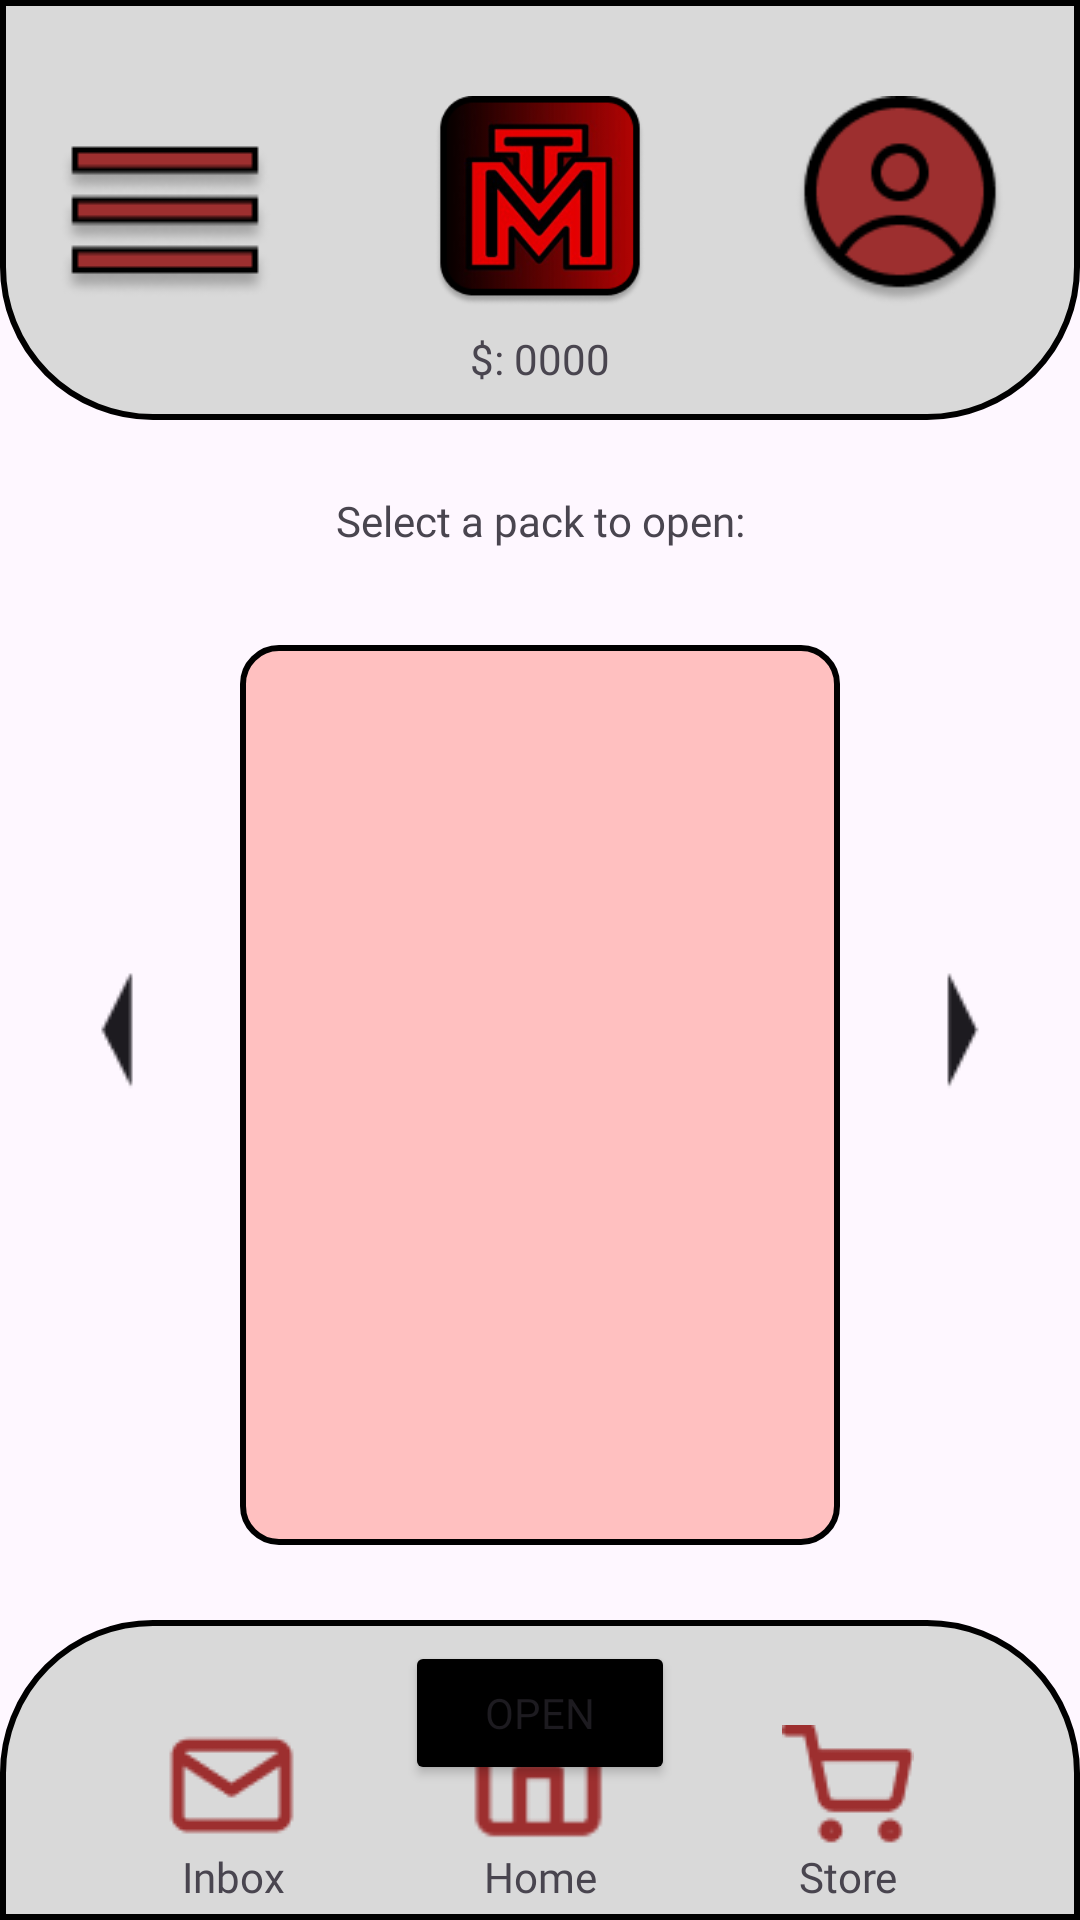

Where to tap for icons on this 1080x1920 app screen, as [x,y]:
arrow left: [117,1029]
arrow right: [963,1029]
hamburger menu: [165,216]
mail: [232,1785]
shopping cart: [848,1784]
